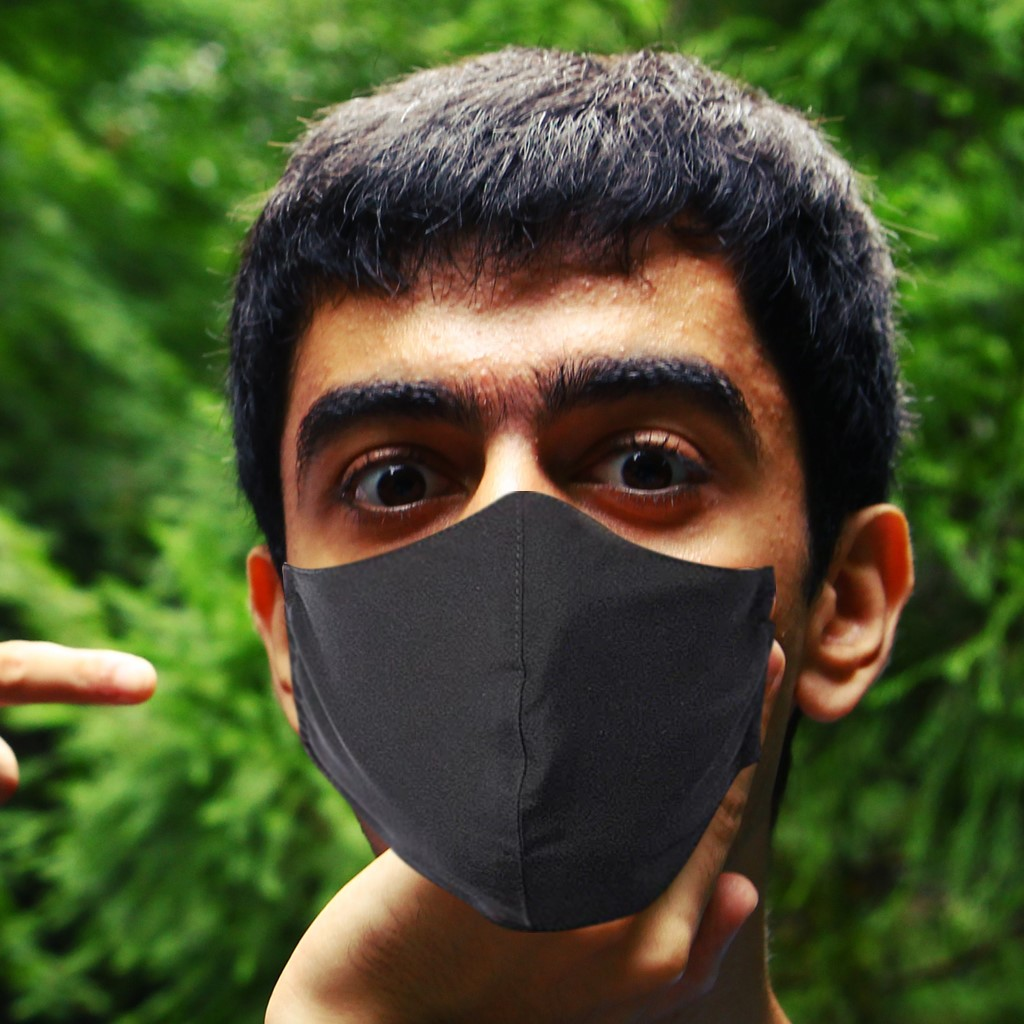con_mascara: (248, 263, 812, 918)
